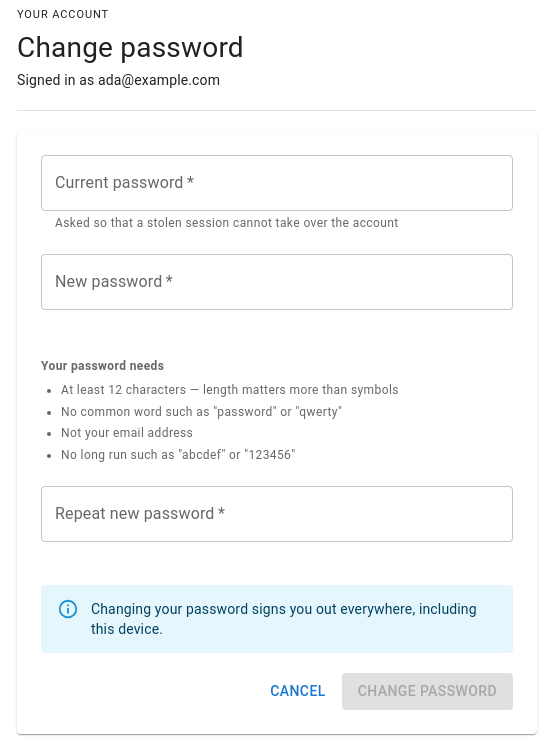
Test case: ChangePasswordPage › keeps the user on the page when the current password is wrong
Type "current-password" into the password field labelled "Current password *". click: (277, 183)
box: [41, 155, 513, 211]
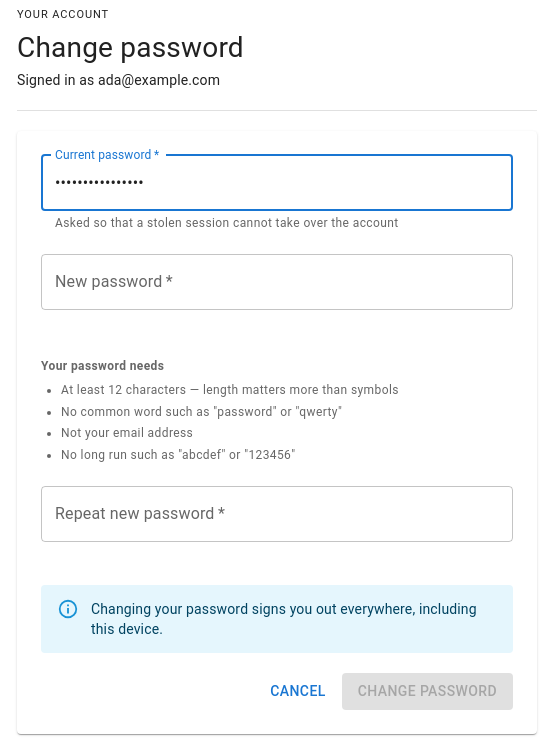
Type "a-brand-new-password" into the password field labelled "New password *". click: (277, 282)
box: [41, 254, 513, 310]
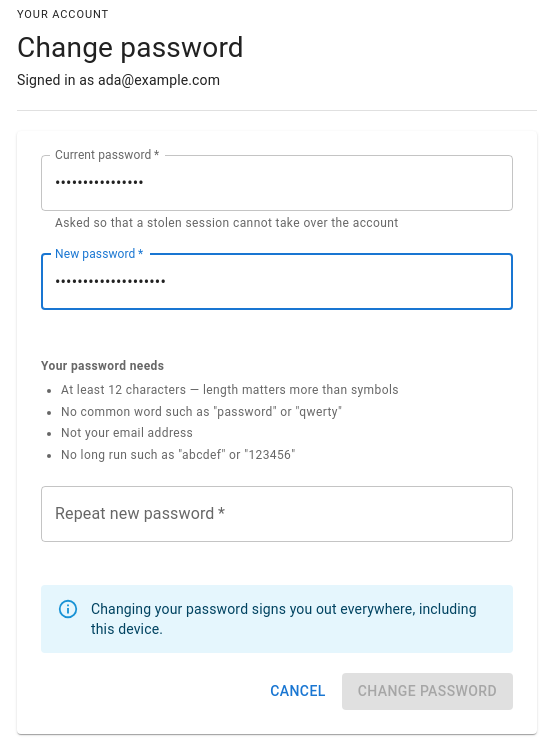
Type "a-brand-new-password" into the password field labelled "Repeat new password *". click: (277, 514)
box: [41, 486, 513, 542]
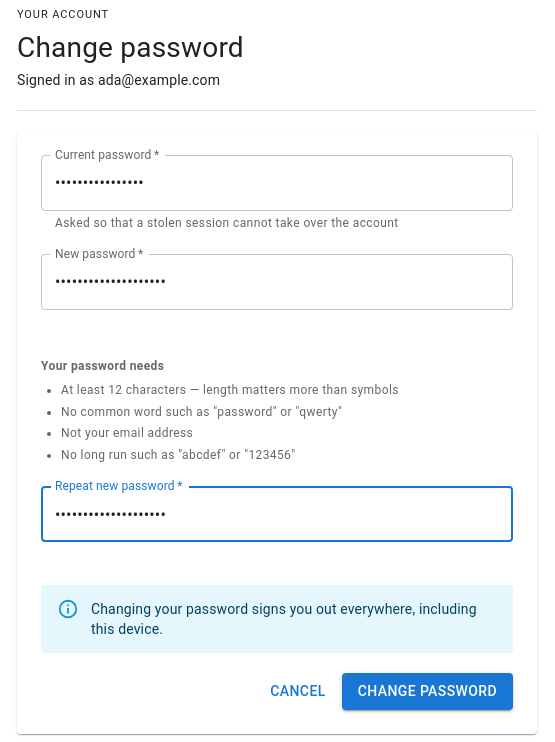
Click the button "Change password". click: (427, 691)
box: [342, 673, 513, 710]
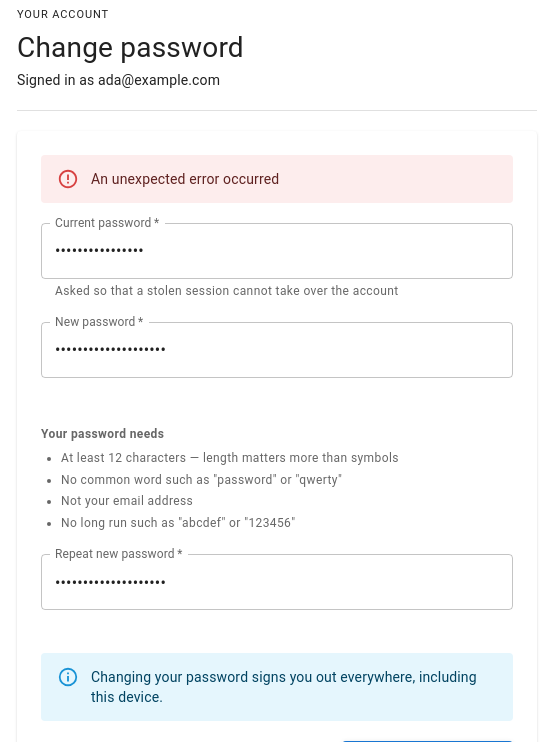
Expected: the text "An unexpected error occurred" is shown, [91, 171, 279, 187]
